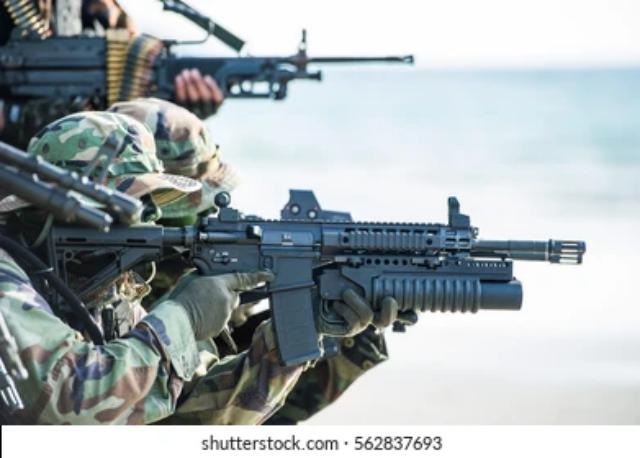other: (0, 117, 170, 420), (0, 0, 194, 117)
